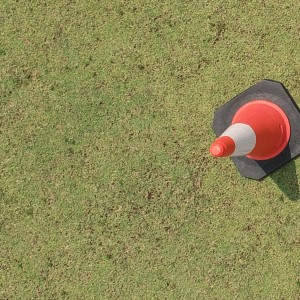traffic cone: (210, 79, 300, 182)
